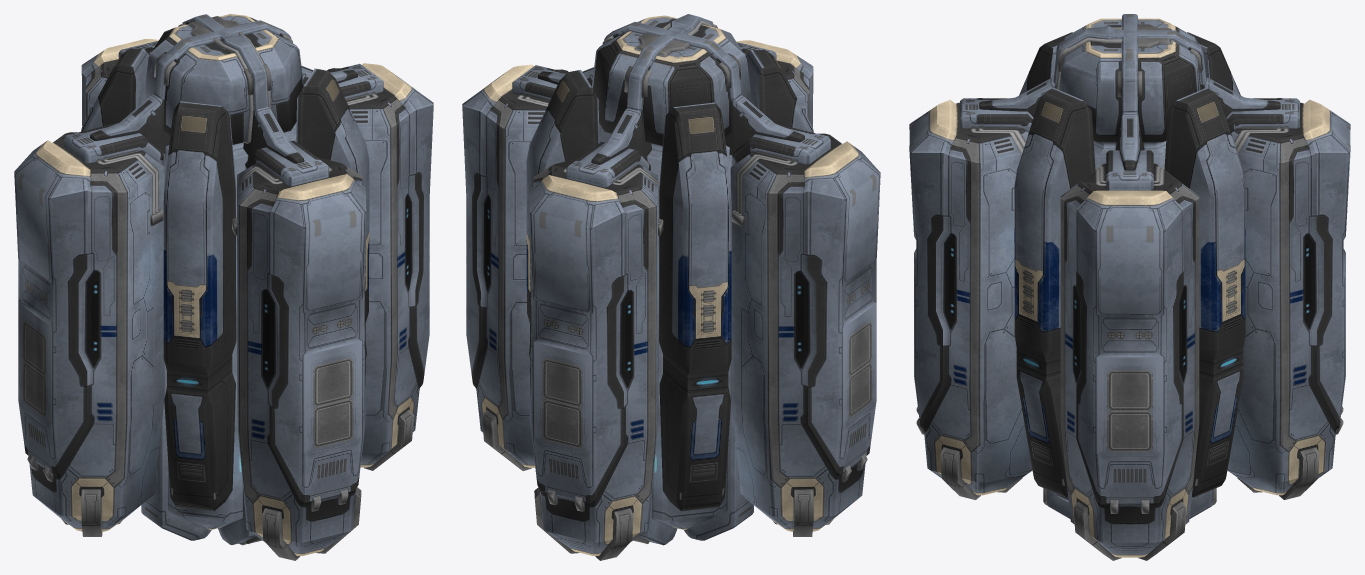
The model's file is 33700_lite.glb.
The picture shows the model from 3 angles, left to right: view 1: azimuth 30°, elevation 25°; view 2: azimuth 150°, elevation 25°; view 3: azimuth 270°, elevation 25°; orthographic projection.
Parts seen in each view (by area): view 1: ship; view 2: ship; view 3: ship.
Part boxes in pixels (<box>): ship: <box>14,14,433,560</box>; ship: <box>462,14,880,560</box>; ship: <box>909,14,1350,560</box>.
Size of the model in its own units: 0.3354 by 0.4134 by 0.3354.
1 material, 1 textured.
